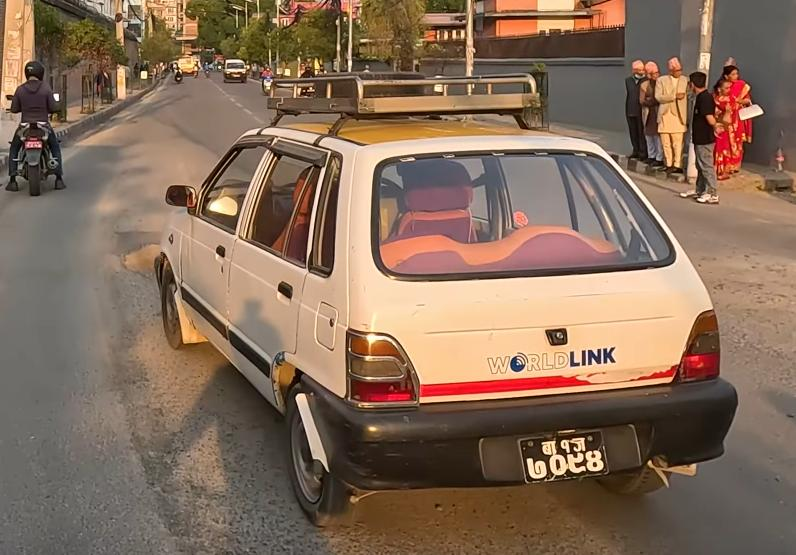bike: (4, 92, 71, 198)
scooter: (258, 74, 278, 98)
taxi: (142, 71, 731, 529)
